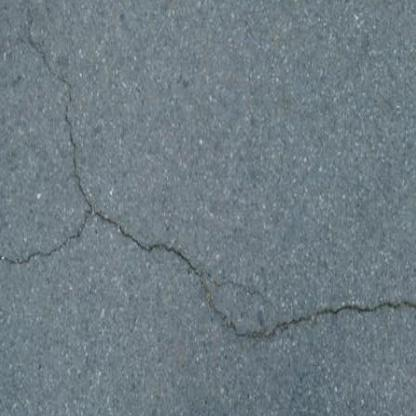Cracks: (74, 187, 293, 353), (18, 0, 119, 248), (222, 269, 416, 360), (0, 228, 106, 285)
